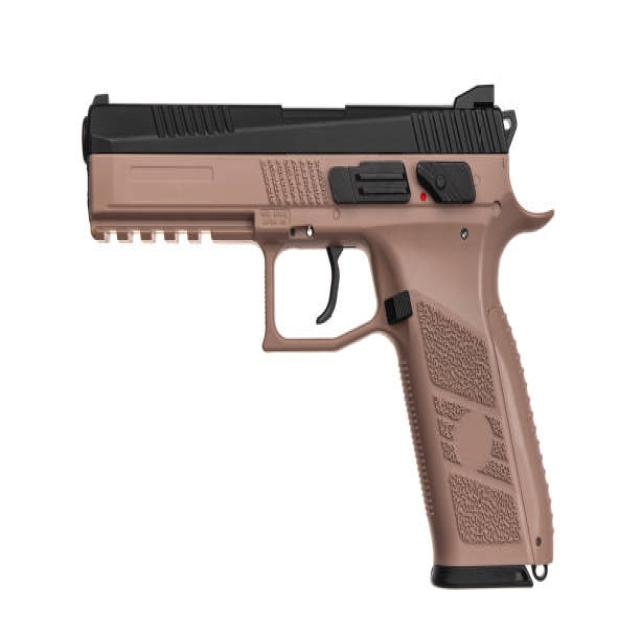pistol: (68, 75, 567, 609)
